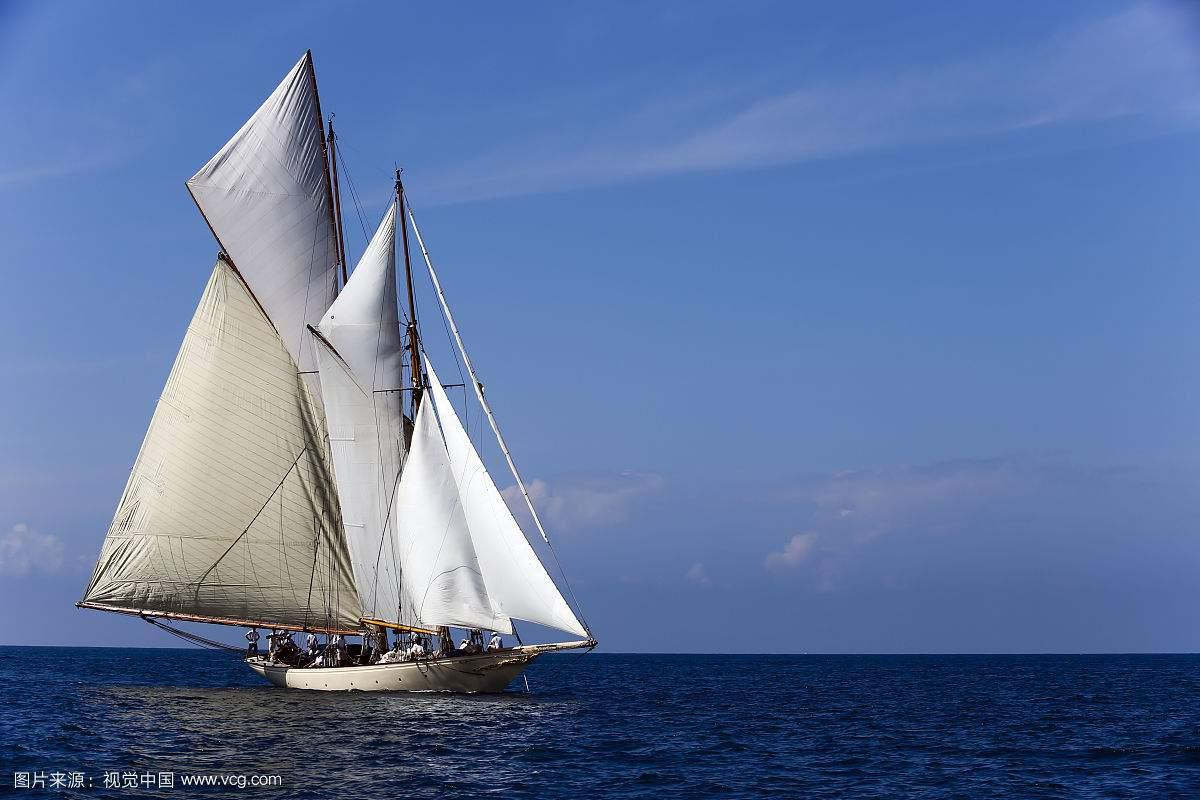fanchuan: (67, 45, 598, 698)
